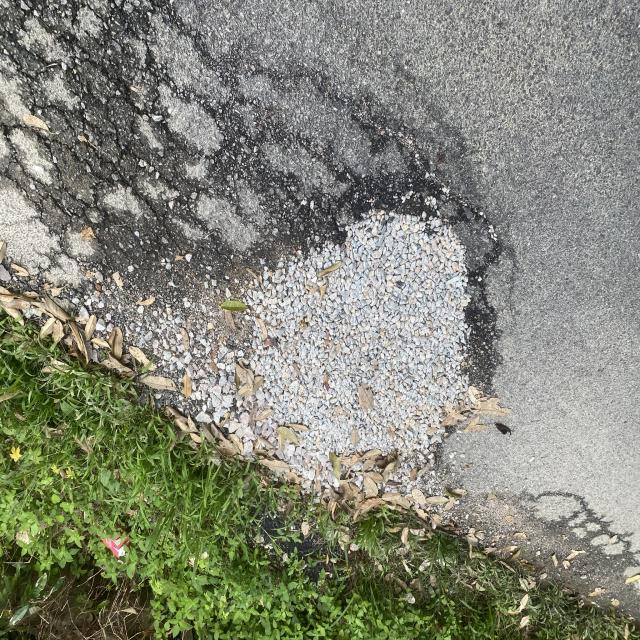pothole: (139, 138, 523, 524)
